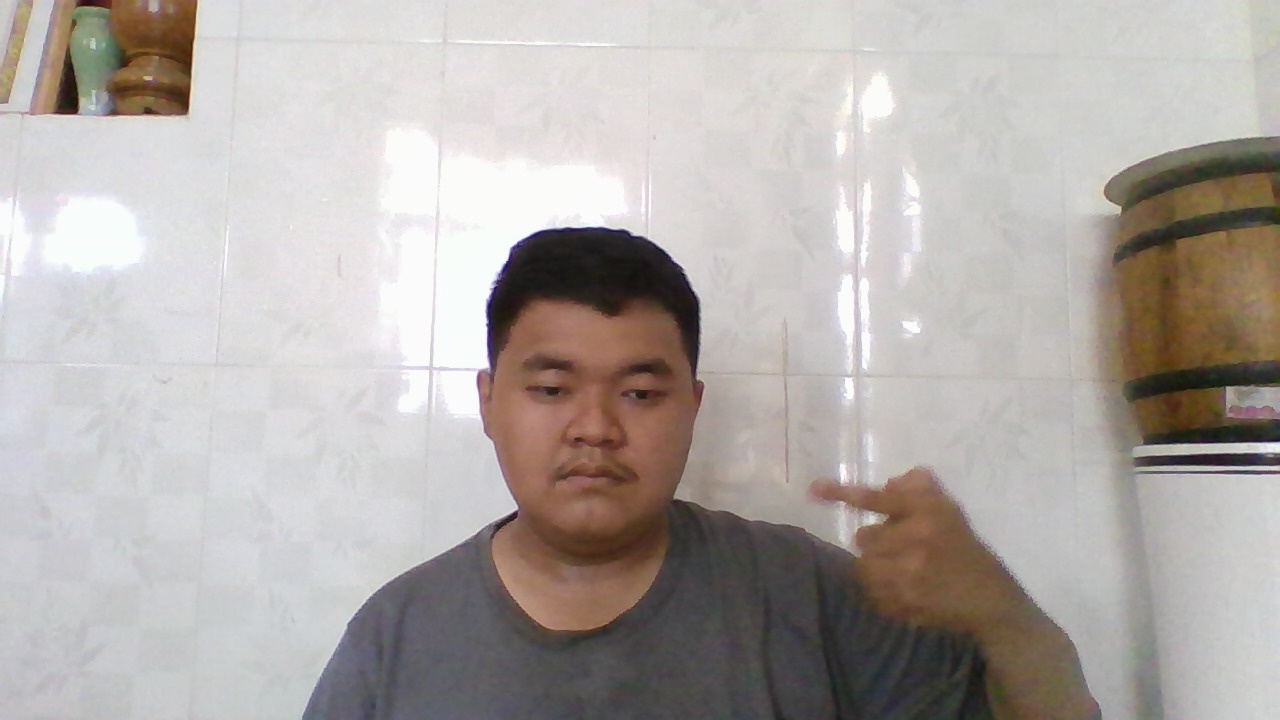G: (800, 470, 1011, 620)
